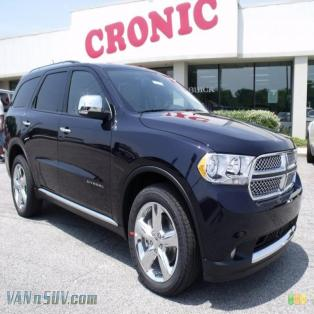Auto: (2, 58, 304, 299)
